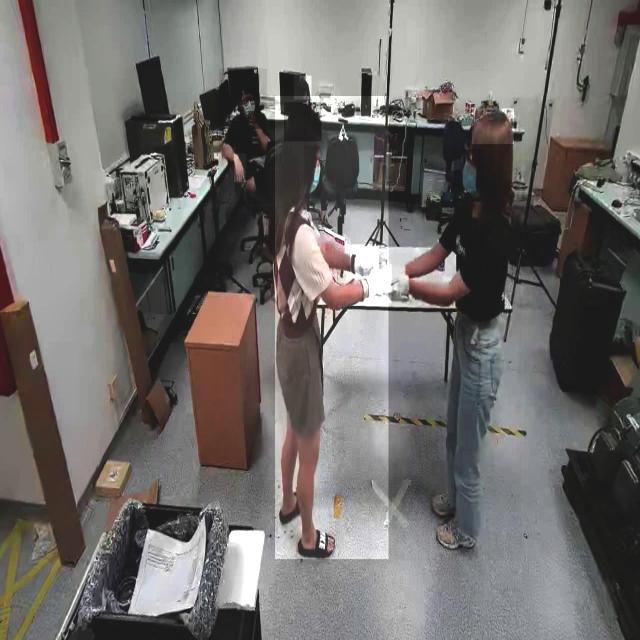face_mask: (454, 149, 484, 202), (304, 146, 322, 199), (240, 92, 260, 124)
hand_glove: (391, 253, 413, 312), (364, 264, 392, 304), (350, 244, 379, 278)
hand_noglove: (234, 154, 246, 183), (247, 111, 261, 130)
head_nohelmet: (472, 108, 514, 145), (284, 102, 322, 142), (294, 76, 312, 100), (238, 74, 260, 90)
person: (392, 97, 522, 562), (274, 96, 388, 560), (219, 68, 267, 205)
shoes: (437, 512, 479, 555), (430, 478, 468, 520)
